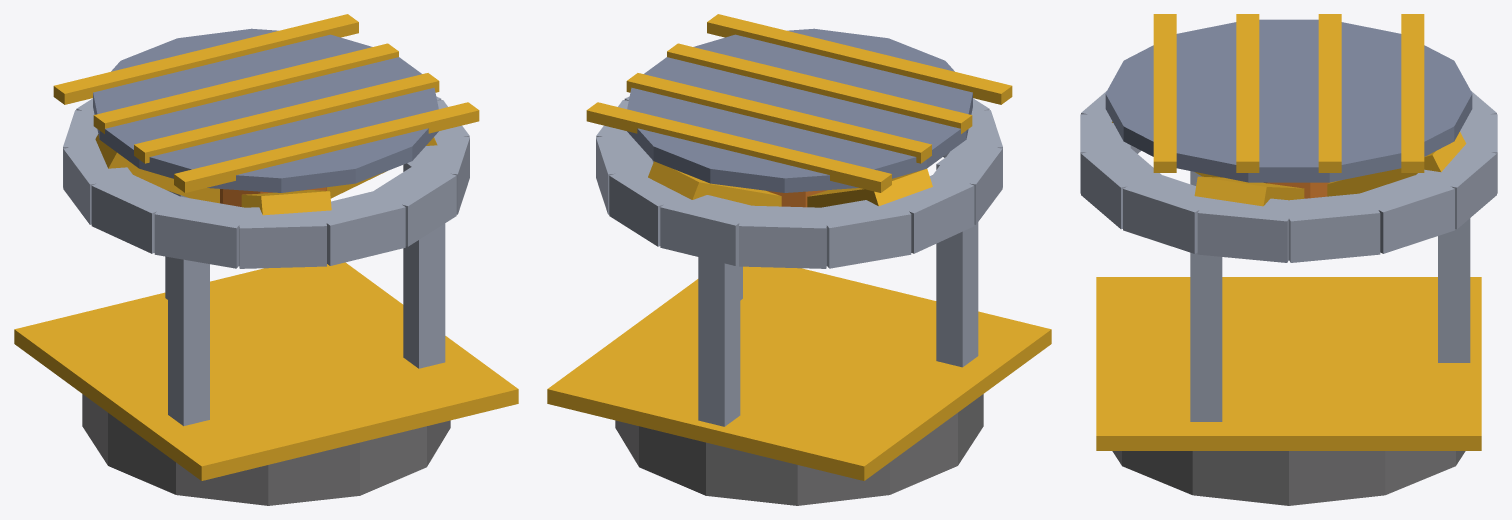
Rendered from fan_vertical.glb.
3 views of the same model, side by side, from view 1: azimuth 30°, elevation 25°; view 2: azimuth 150°, elevation 25°; view 3: azimuth 270°, elevation 25° (orthographic). The views are drawn at different scales.
Parts seen in each view (by area): view 1: fan_vertical; view 2: fan_vertical; view 3: fan_vertical.
Boxes of the visible parts, x1,y1,x2,y2 form: fan_vertical: (14,14,518,505); fan_vertical: (547,14,1051,505); fan_vertical: (1080,14,1497,505).
Size of the model in its own units: 1 by 0.895 by 1.
